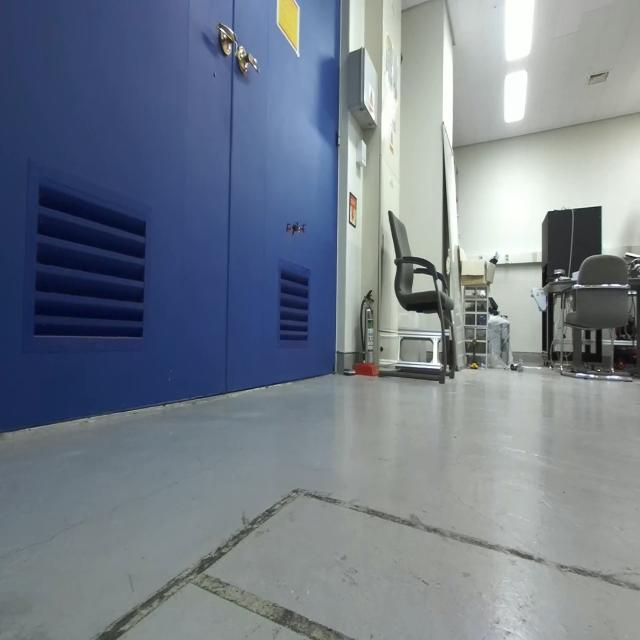crazyflie: (282, 214, 308, 244)
